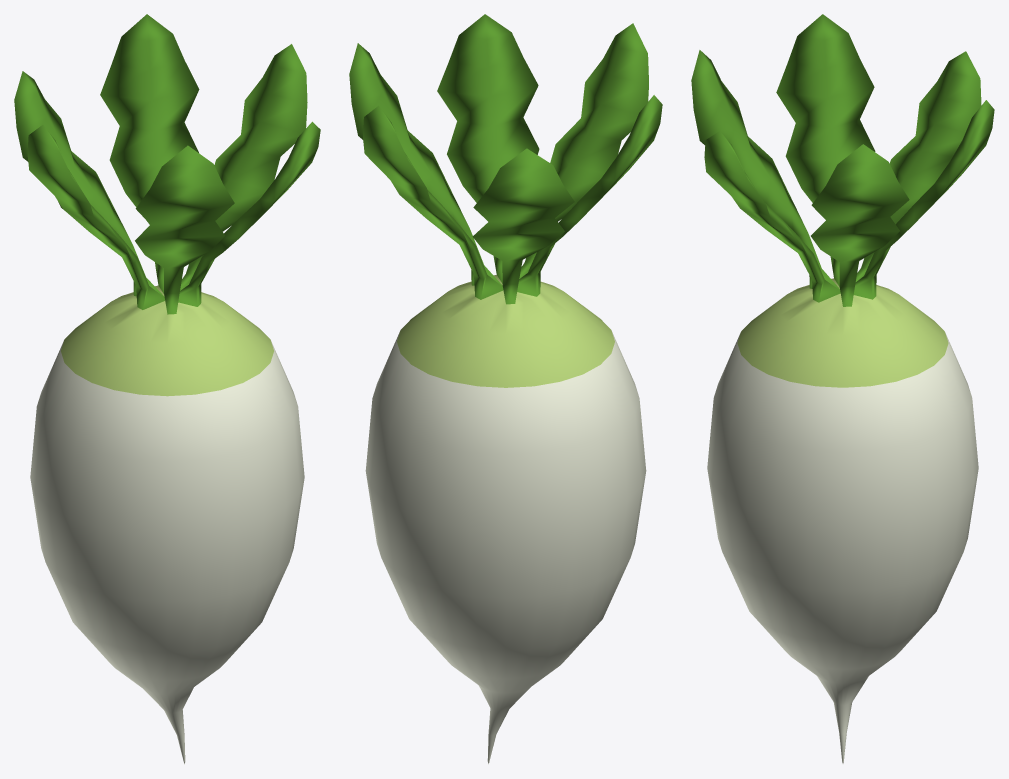
The model's file is NEW_RECOVERY_062_LOD1.glb.
3 renders of one model, left to right at view 1: azimuth 30°, elevation 25°; view 2: azimuth 150°, elevation 25°; view 3: azimuth 270°, elevation 25°, orthographic. The views are drawn at different scales.
Parts seen in each view (by area): view 1: Whole_Radish; view 2: Whole_Radish; view 3: Whole_Radish.
Part boxes in pixels (x1,y1,x2,y2): Whole_Radish: (14, 14, 320, 764); Whole_Radish: (349, 14, 662, 764); Whole_Radish: (691, 14, 994, 763).
Bounding box in the file's own units: 0.7216 × 1.75 × 0.7037.
